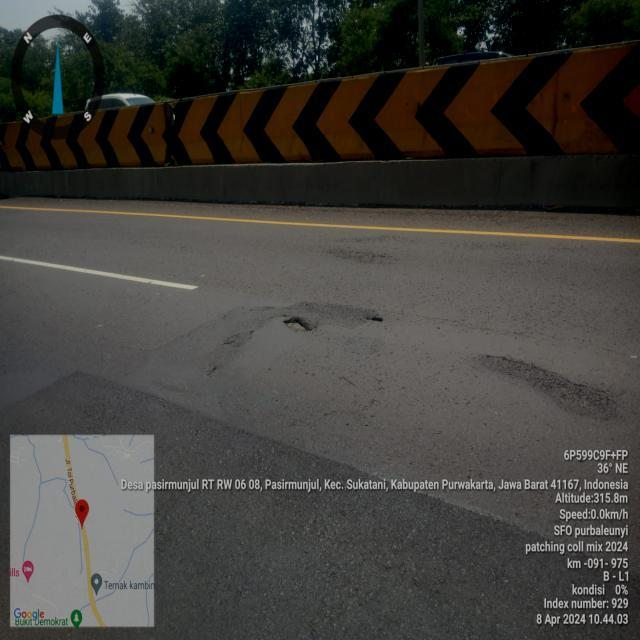Buraco: (280, 314, 316, 334)
